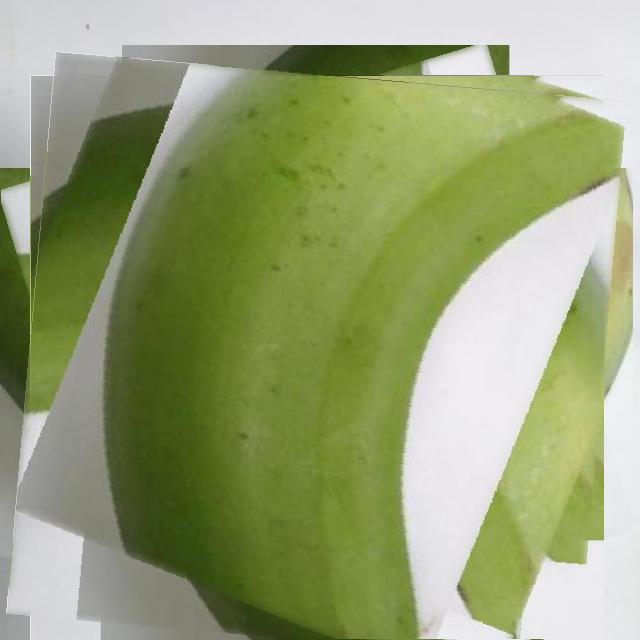Verde: (18, 63, 615, 640)
